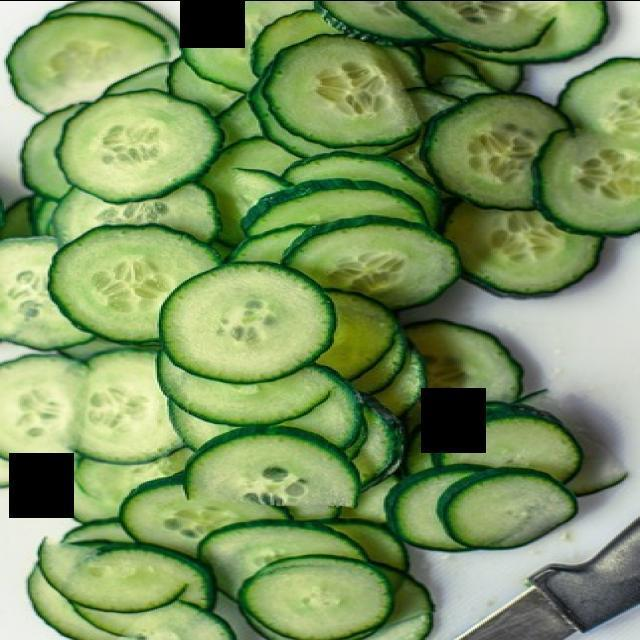cucumber: (0, 27, 570, 503), (421, 54, 631, 280), (144, 244, 338, 401), (40, 91, 228, 214), (154, 416, 382, 512), (260, 32, 435, 154), (263, 212, 467, 302)
